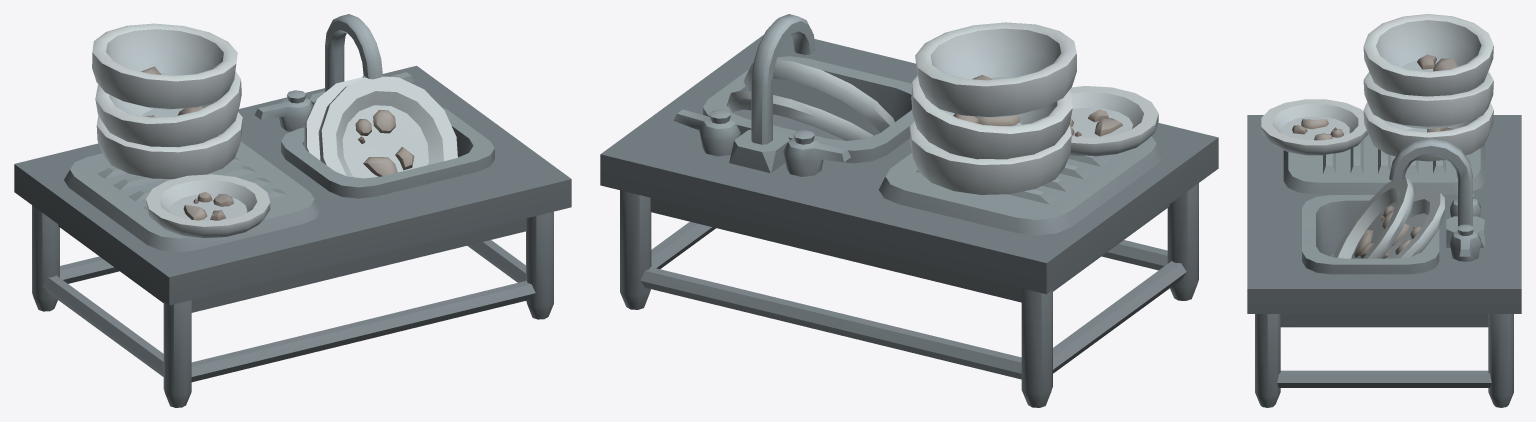
File: kaykit-restaurant-bits-kitchentable-sink-large-decorated.glb
3 views of the same model, side by side, from view 1: azimuth 30°, elevation 25°; view 2: azimuth 150°, elevation 25°; view 3: azimuth 270°, elevation 25° (orthographic). The views are drawn at different scales.
Visible parts, largest first — view 1: kitchentable_sink_large_decorated; view 2: kitchentable_sink_large_decorated; view 3: kitchentable_sink_large_decorated.
Boxes of the visible parts, left/top/right/bottom form: kitchentable_sink_large_decorated: left=14, top=14, right=571, bottom=407; kitchentable_sink_large_decorated: left=600, top=14, right=1218, bottom=407; kitchentable_sink_large_decorated: left=1247, top=14, right=1521, bottom=407.
Bounding box in the file's own units: 3 × 1.95 × 2.
1 material, 1 textured.
